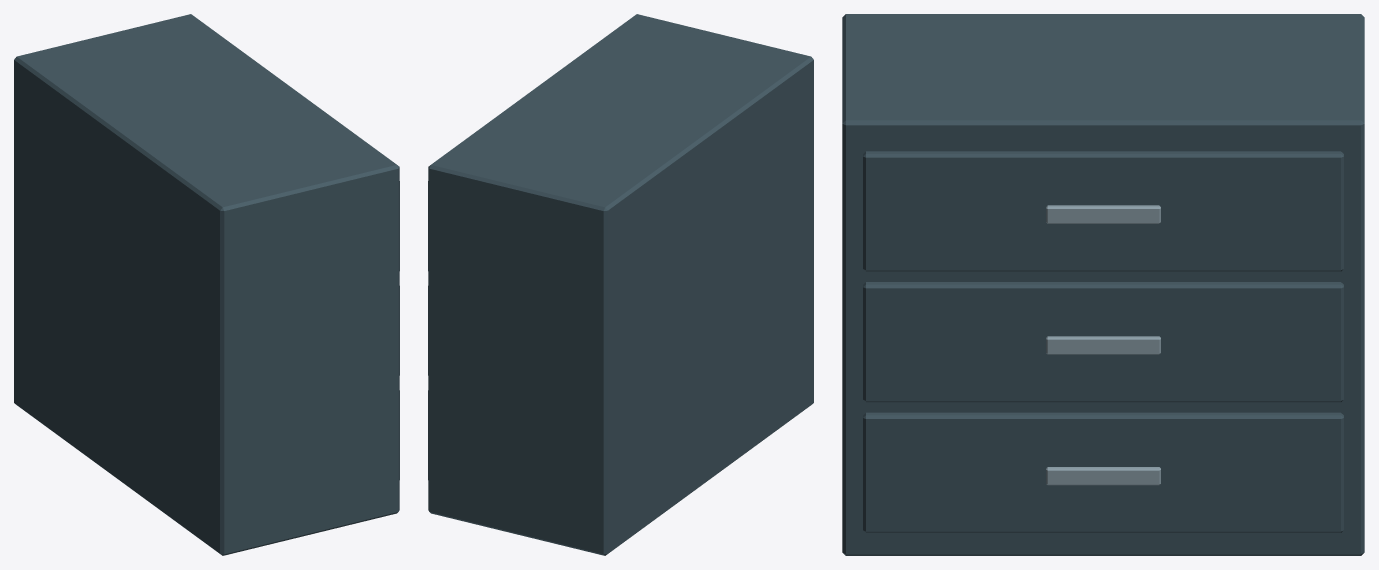
File: commode_fer.glb
3 views of the same model, side by side, from view 1: azimuth 30°, elevation 25°; view 2: azimuth 150°, elevation 25°; view 3: azimuth 270°, elevation 25° (orthographic). The views are drawn at different scales.
Parts seen in each view (by area): view 1: commode_fer; view 2: commode_fer; view 3: commode_fer.
Boxes of the visible parts, x1,y1,x2,y2 form: commode_fer: (14,14,399,555); commode_fer: (428,14,813,555); commode_fer: (842,14,1364,555).
Bounding box in the file's own units: 0.66 × 1.15 × 1.25.
1 material, 1 textured.
